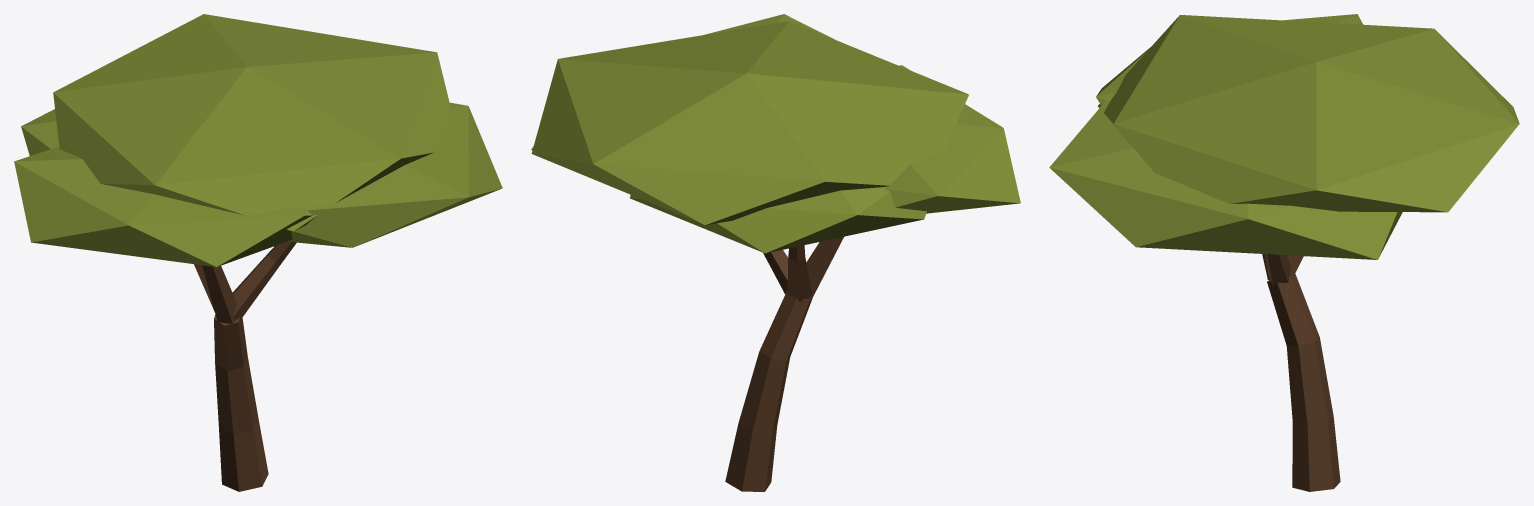
The model's file is Tree_Acacia_C.glb.
The picture shows the model from 3 angles, left to right: view 1: azimuth 30°, elevation 25°; view 2: azimuth 150°, elevation 25°; view 3: azimuth 270°, elevation 25°; orthographic projection. The views are drawn at different scales.
Visible parts, largest first — view 1: Tree_Acacia_C; view 2: Tree_Acacia_C; view 3: Tree_Acacia_C.
Part boxes in pixels (bbox=[...]): Tree_Acacia_C: bbox=[14, 14, 502, 491]; Tree_Acacia_C: bbox=[531, 14, 1020, 491]; Tree_Acacia_C: bbox=[1049, 14, 1519, 491].
Size of the model in its own units: 4.16 by 3.77 by 3.77.
